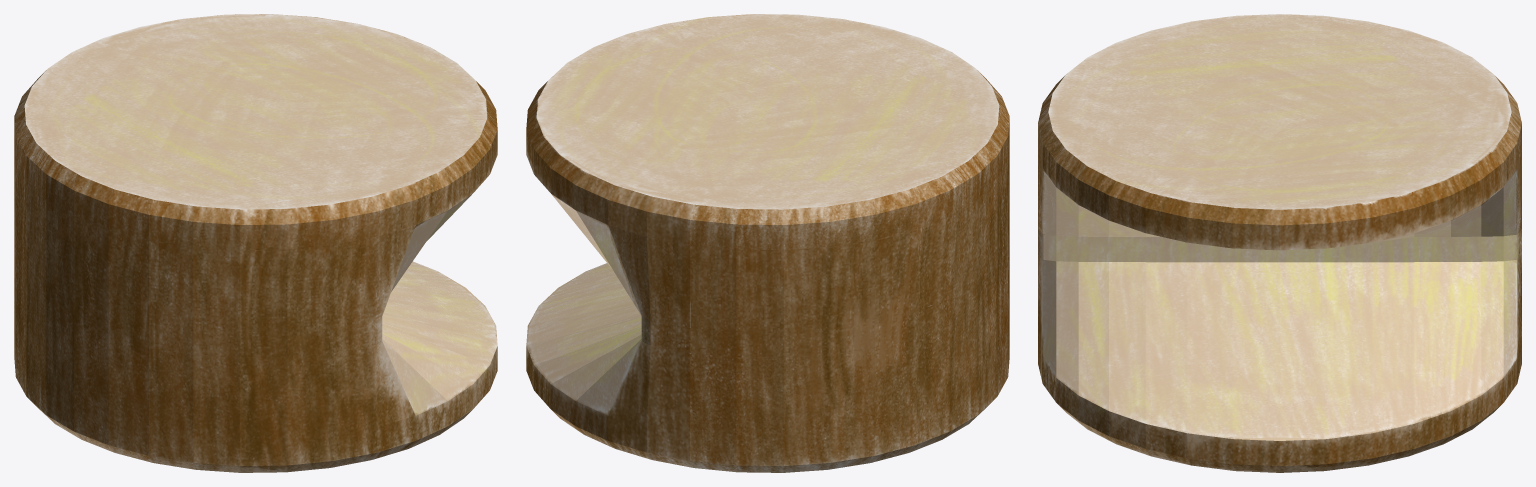
File: wood trunk_v1 1.fbx
3 renders of one model, left to right at view 1: azimuth 30°, elevation 25°; view 2: azimuth 150°, elevation 25°; view 3: azimuth 270°, elevation 25°, orthographic.
Parts seen in each view (by area): view 1: Cylinder.001; view 2: Cylinder.001; view 3: Cylinder.001.
Boxes of the visible parts, bbox=[...] form: Cylinder.001: bbox=[14, 14, 497, 472]; Cylinder.001: bbox=[526, 14, 1009, 472]; Cylinder.001: bbox=[1038, 14, 1521, 472].
Bounding box in the file's own units: 0.5 × 0.5 × 0.3.
